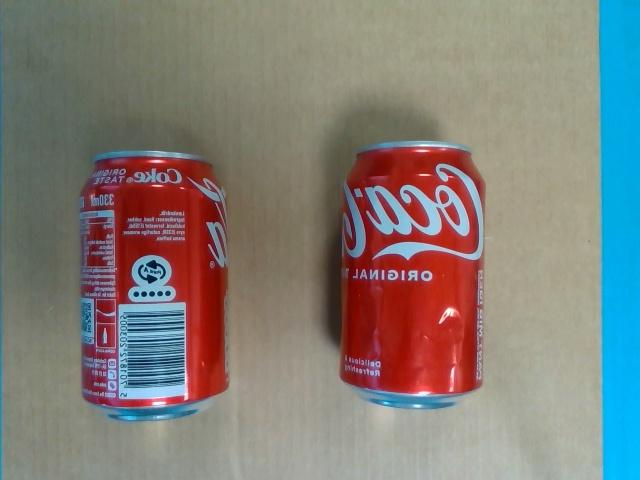cola can: (77, 150, 227, 423), (337, 141, 487, 411)
